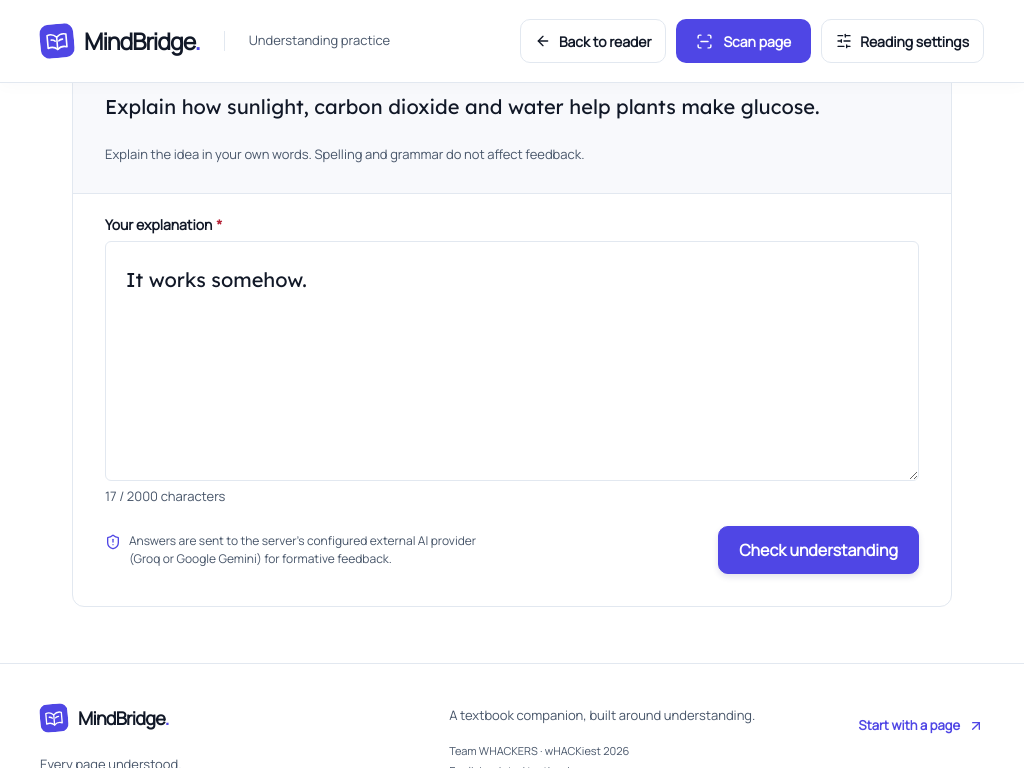
Test case: Learning loop: prepare, uncertain recovery, misconception repair, retry, and results › rejects blank submission, recovers from uncertain response, repairs misconception, and completes independent retry
Earlier steps of the test are not shown.
(page scrolled)
// Second submission returns misconception repair + follow-up question
Replace the text in the text box labelled "Your explanation *" with "Plants get their food directly from sunlight.": (512, 361) [105,241,919,481]
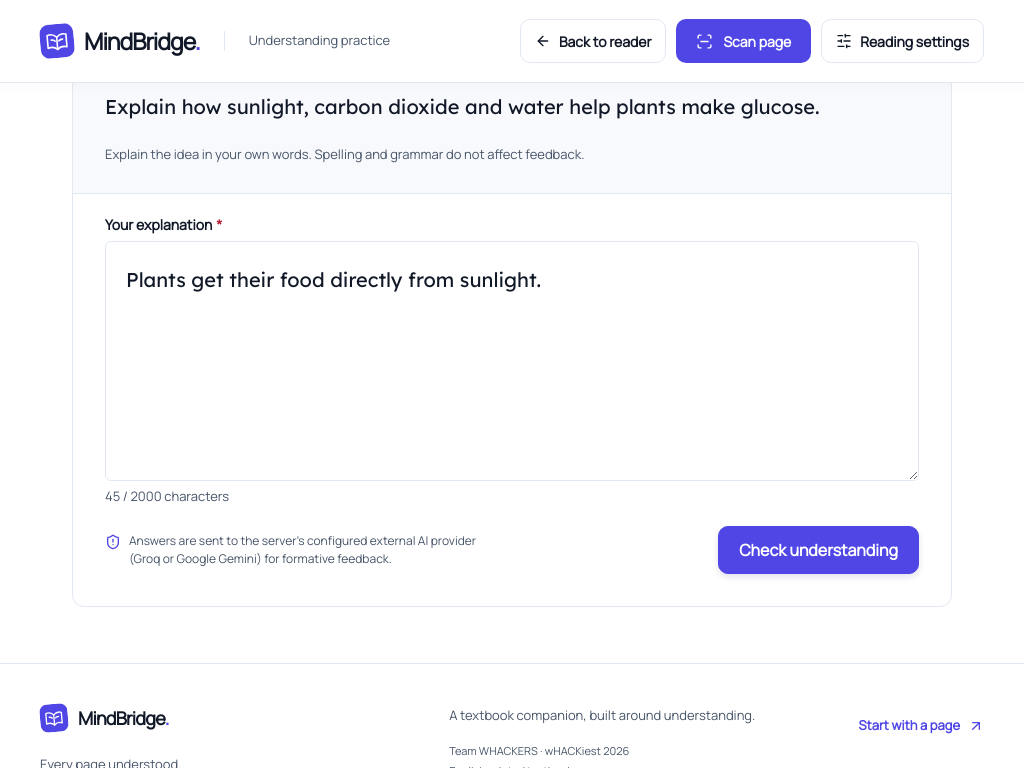
Click the button "Check understanding": (819, 550) [718,526,919,574]
(page scrolled)
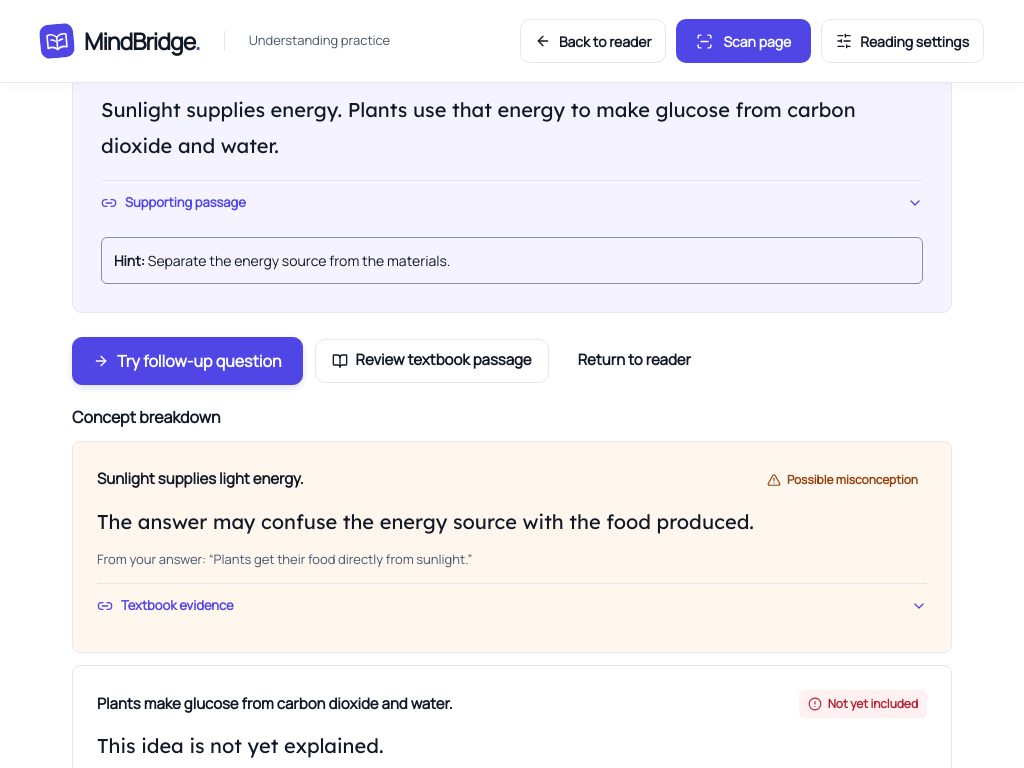
Result: the text "Possible misconception" is shown at [787,471,918,489]
Result: the text "Not yet included" is shown at [828,695,918,713]
// Start retry
Click the button "Try follow-up question": (187, 361) [72,337,302,385]
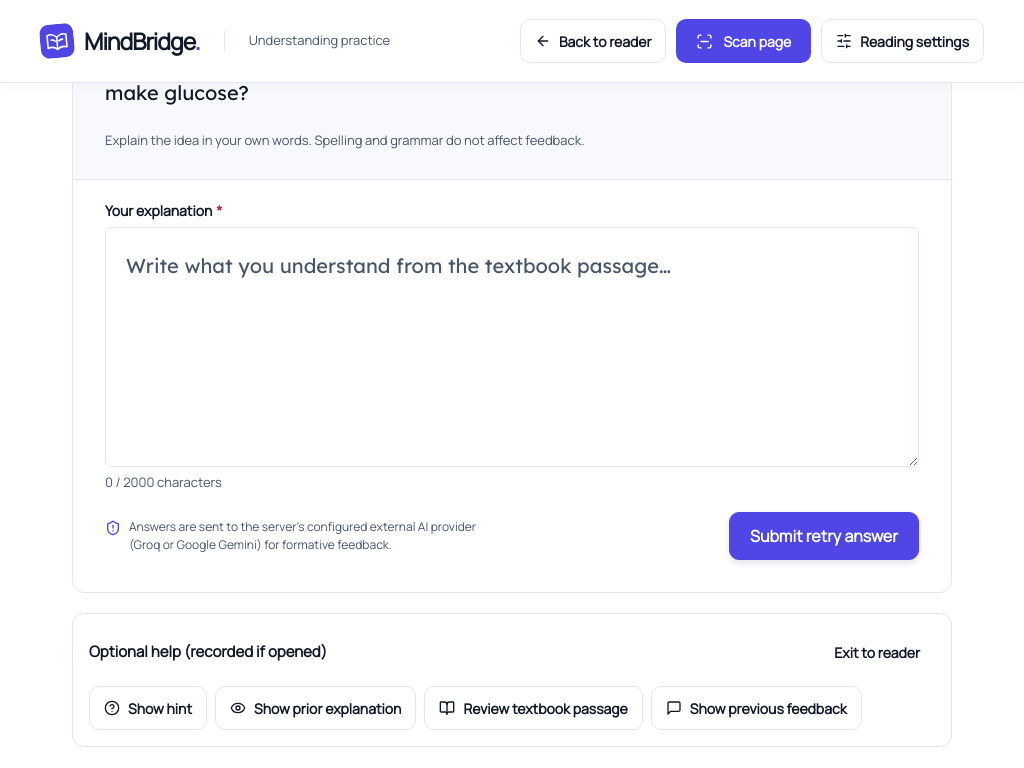
Result: the text "What does sunlight provide, and which materials does a plant use to make glucose?" is shown at [105,44,767,105]
// Submit independent retry
In the text box labelled "Your explanation *": (512, 347) [105,227,919,467], type "Sunlight provides energy. Plants use water and carbon dioxide to make glucose."
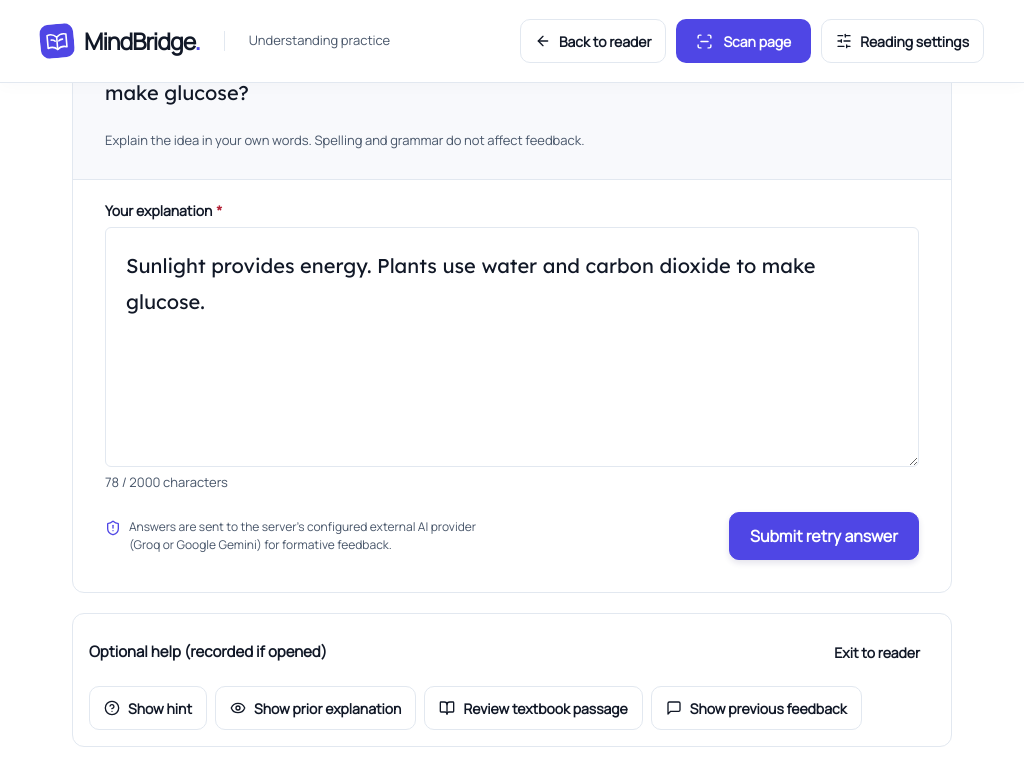
Click the button "Submit retry answer": (824, 536) [729,512,919,560]
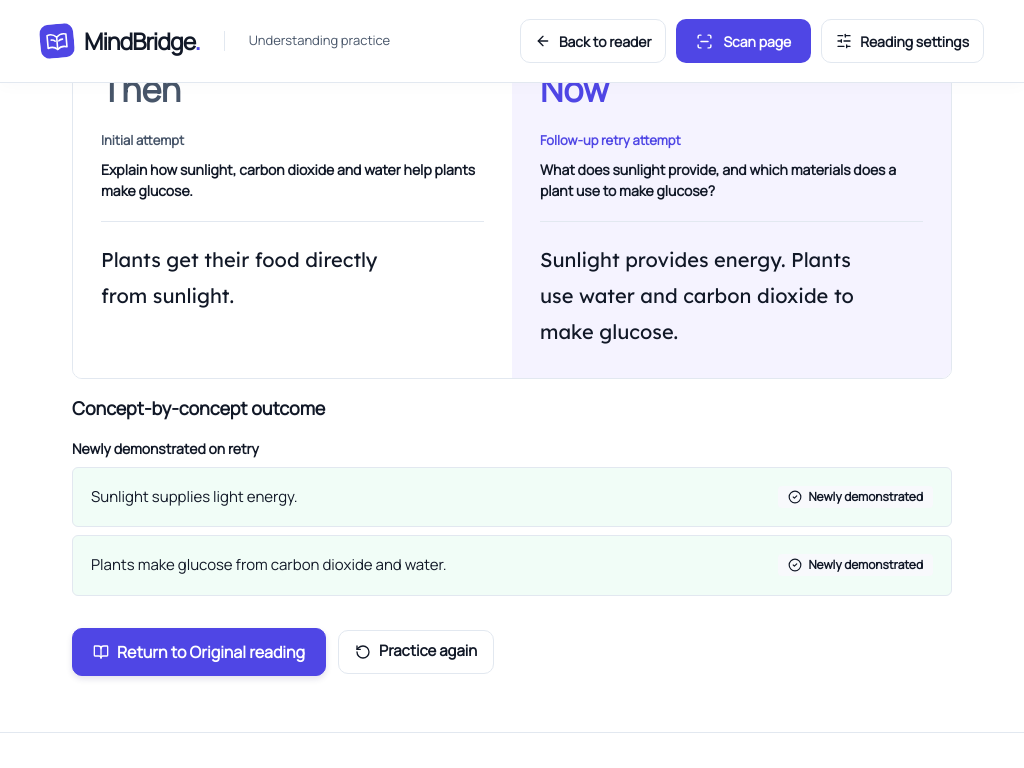
Result: the heading "Newly demonstrated on retry" is shown at [72,439,259,458]
// Return to Original reading
Click the button "Return to Original reading": (199, 652) [72,628,326,676]
(page scrolled)
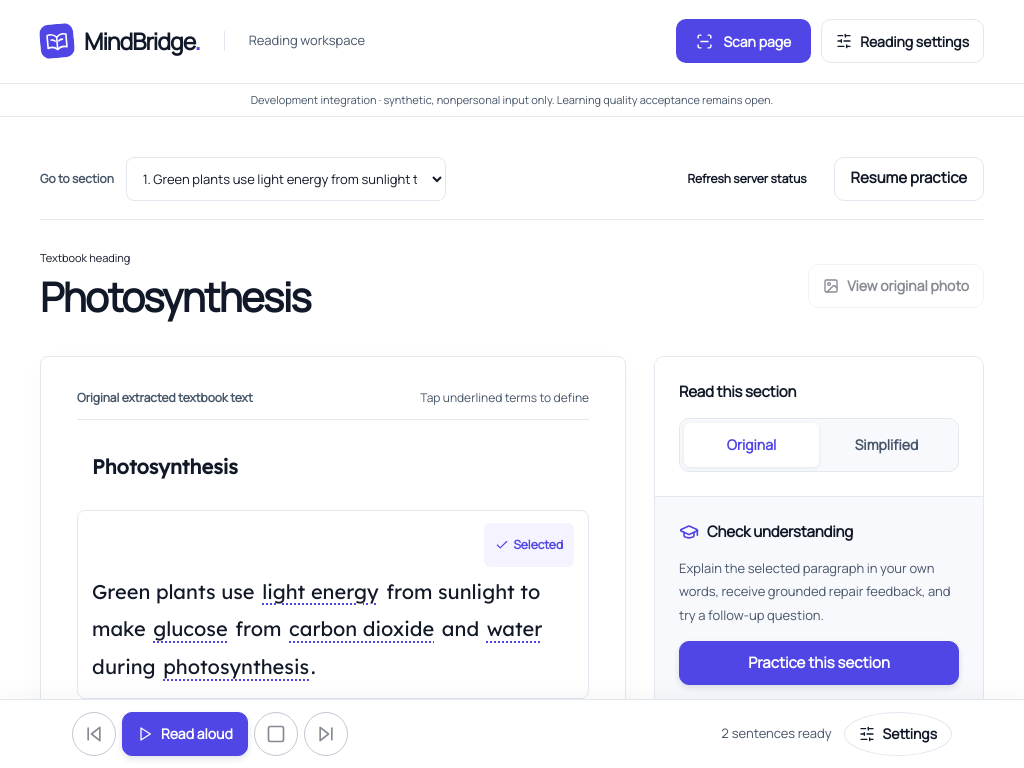
Result: the heading "Photosynthesis" below "Textbook heading" is shown at [40,272,310,322]
